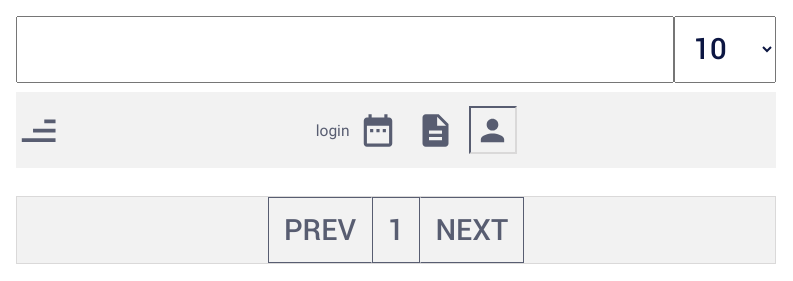
Scenario: page increments properly
Check: the text with test id "pageValue" reads "1", box top-left (387, 213), bottom-right (404, 247)
Step 1. Click the text with test id "nextPage" → (472, 230), box top-left (420, 197), bottom-right (524, 263)
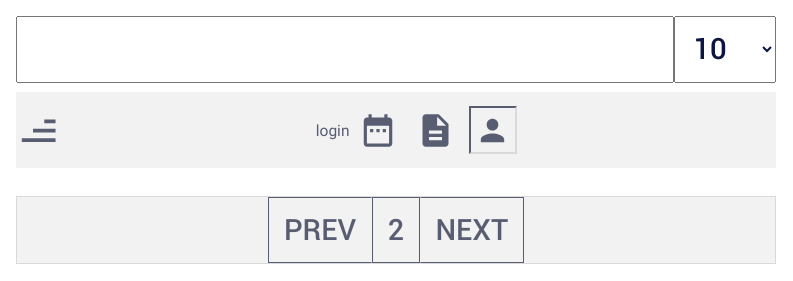
Check: the text with test id "pageValue" reads "2", box top-left (387, 213), bottom-right (404, 247)
